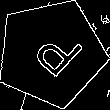P_SW: (20, 22, 82, 84)
